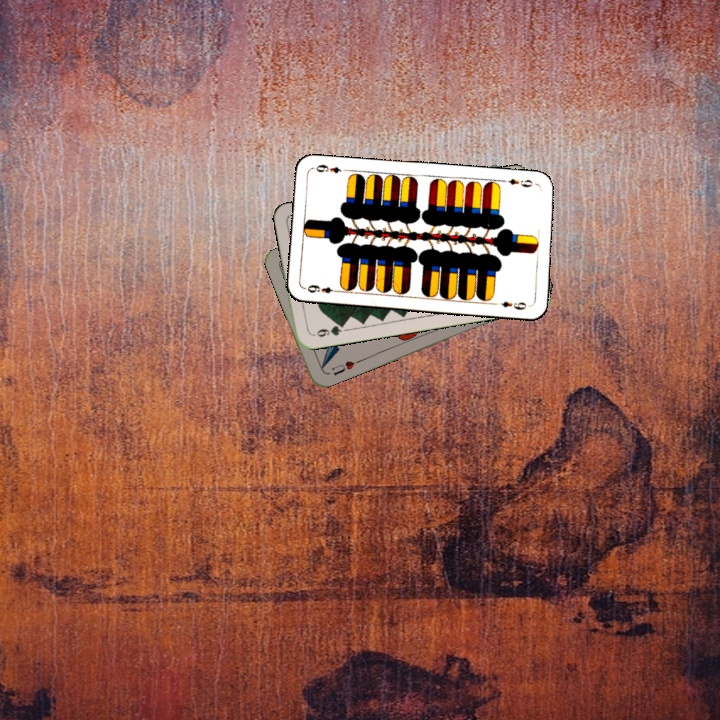E9: (499, 174, 540, 190), (302, 280, 342, 296)
G9: (308, 319, 347, 339)
HU: (327, 356, 362, 378)
